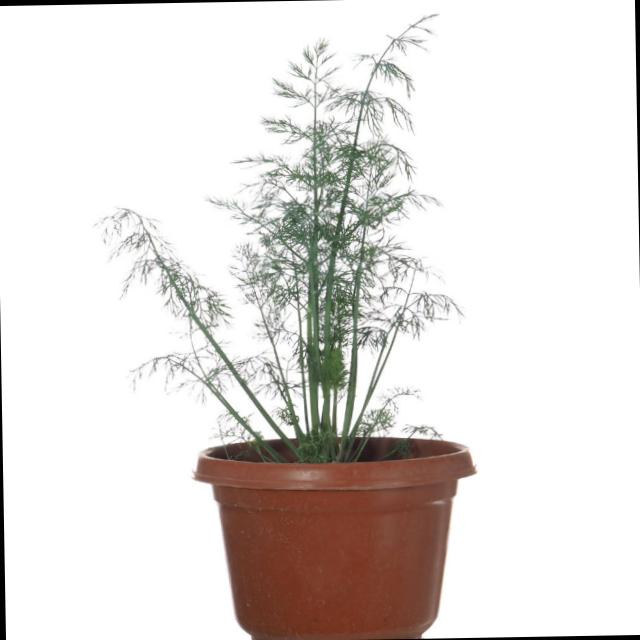Dill: (81, 13, 516, 444)
